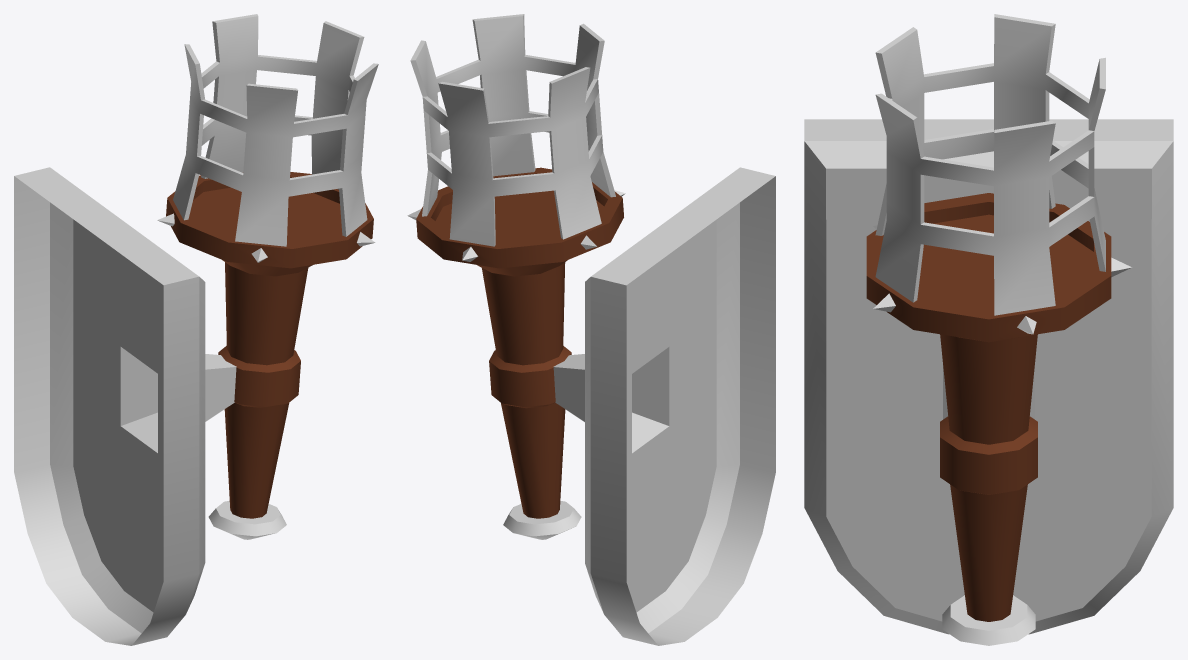
The model's file is Antorchas.fbx.
The picture shows the model from 3 angles, left to right: view 1: azimuth 30°, elevation 25°; view 2: azimuth 150°, elevation 25°; view 3: azimuth 270°, elevation 25°; orthographic projection. The views are drawn at different scales.
Parts seen in each view (by area): view 1: Cube.003; view 2: Cube.003; view 3: Cube.003.
Boxes of the visible parts, bbox=[...] form: Cube.003: bbox=[14, 14, 378, 645]; Cube.003: bbox=[407, 14, 775, 645]; Cube.003: bbox=[804, 14, 1173, 645].
Bounding box in the file's own units: 46.28 × 85.54 × 43.12.
